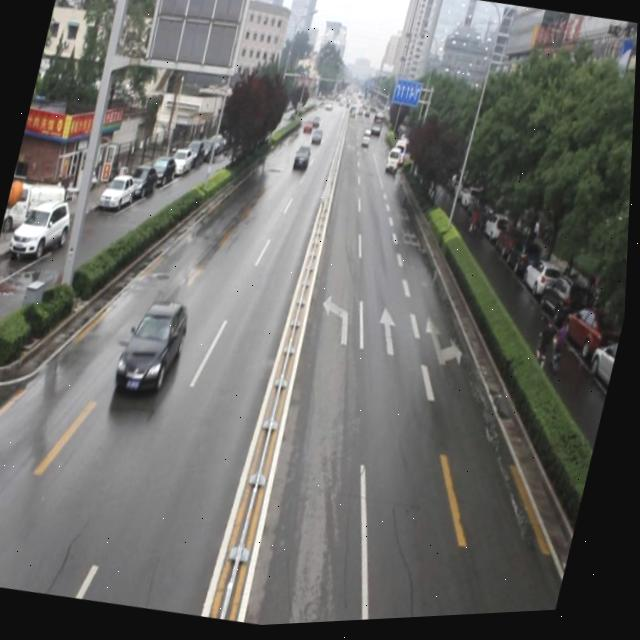car: (113, 294, 197, 407), (292, 145, 314, 173)
truck: (384, 150, 403, 181)
